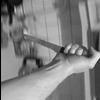melee: (21, 33, 63, 52)
